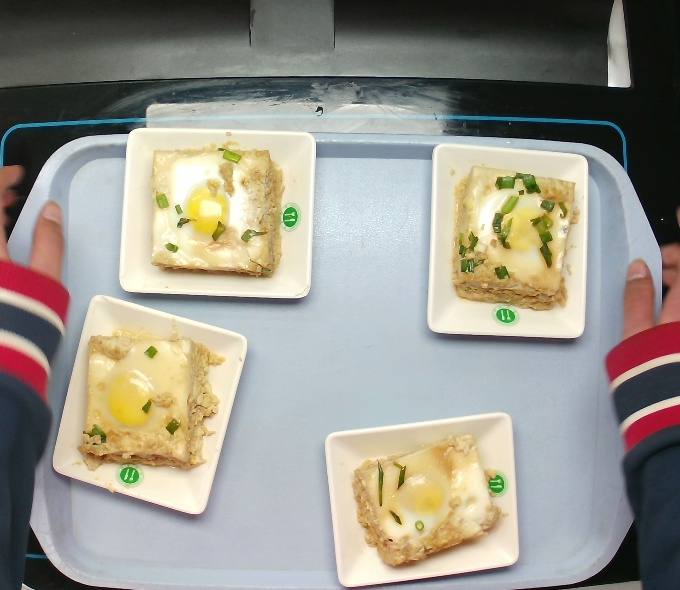wcq-RouMoZhengDan: (134, 121, 297, 298), (78, 315, 223, 485), (440, 155, 582, 318), (352, 432, 500, 574)
